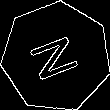N_E: (26, 29, 87, 84)
